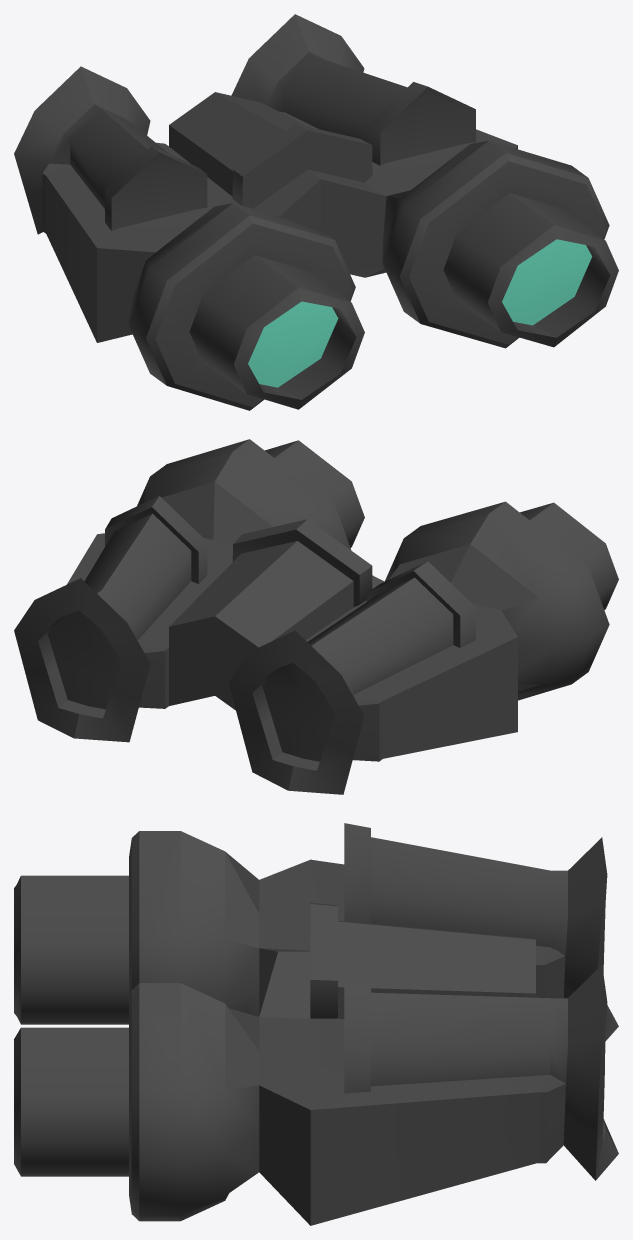
The model's file is T2_Binoculars.fbx.
3 views of the same model, one above another, from view 1: azimuth 30°, elevation 25°; view 2: azimuth 150°, elevation 25°; view 3: azimuth 270°, elevation 25° (orthographic). The views are drawn at different scales.
Parts seen in each view (by area): view 1: Binoculars; view 2: Binoculars; view 3: Binoculars.
Boxes of the visible parts, <box> form: Binoculars: <box>14,14,618,410</box>; Binoculars: <box>14,439,618,794</box>; Binoculars: <box>14,823,618,1225</box>.
Size of the model in its own units: 0.8722 by 0.8086 by 0.3605.
